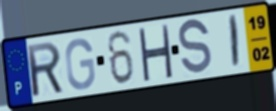6: (106, 29, 136, 88)
G: (63, 36, 97, 92)
H: (136, 24, 174, 82)
I: (229, 13, 241, 72)
R: (25, 39, 66, 99)
S: (177, 17, 214, 79)
